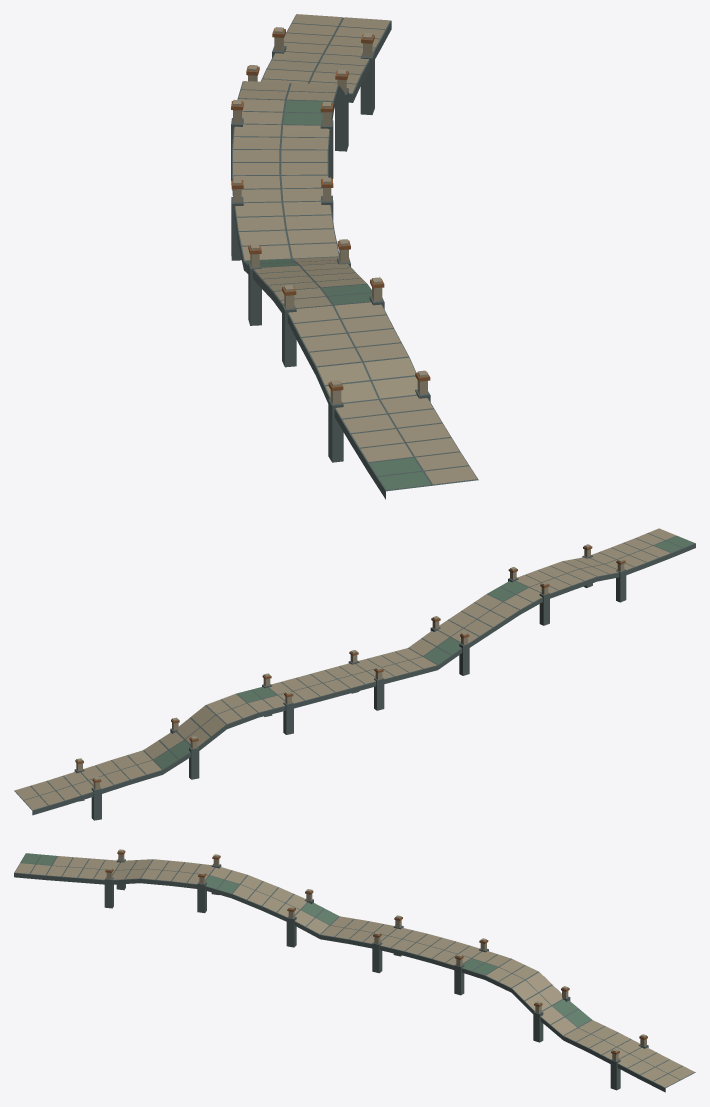
Rendered from 3_orchard_pass_1.glb.
The picture shows the model from 3 angles, top to bottom: view 1: azimuth 30°, elevation 25°; view 2: azimuth 150°, elevation 25°; view 3: azimuth 270°, elevation 25°; orthographic projection. The views are drawn at different scales.
Parts seen in each view (by area): view 1: Detail_8_14, Detail_8_13, Deck_8_14-col, Deck_8_13-col; view 2: Detail_8_14, Detail_8_13, Deck_8_14-col, Deck_8_13-col; view 3: Detail_8_14, Detail_8_13, Deck_8_14-col, Deck_8_13-col.
Part boxes in pixels (<box>): Detail_8_14: <box>231,122,477,499</box>; Detail_8_13: <box>231,14,391,180</box>; Deck_8_14-col: <box>232,150,478,491</box>; Deck_8_13-col: <box>232,14,391,150</box>; Detail_8_14: <box>282,528,695,710</box>; Detail_8_13: <box>15,673,320,820</box>; Deck_8_14-col: <box>296,533,695,696</box>; Deck_8_13-col: <box>14,680,319,810</box>; Detail_8_14: <box>14,849,460,995</box>; Detail_8_13: <box>445,938,694,1092</box>; Deck_8_14-col: <box>14,853,455,958</box>; Deck_8_13-col: <box>432,942,695,1088</box>.
Bounding box in the file's own units: 21.43 × 7.39 × 39.21.
